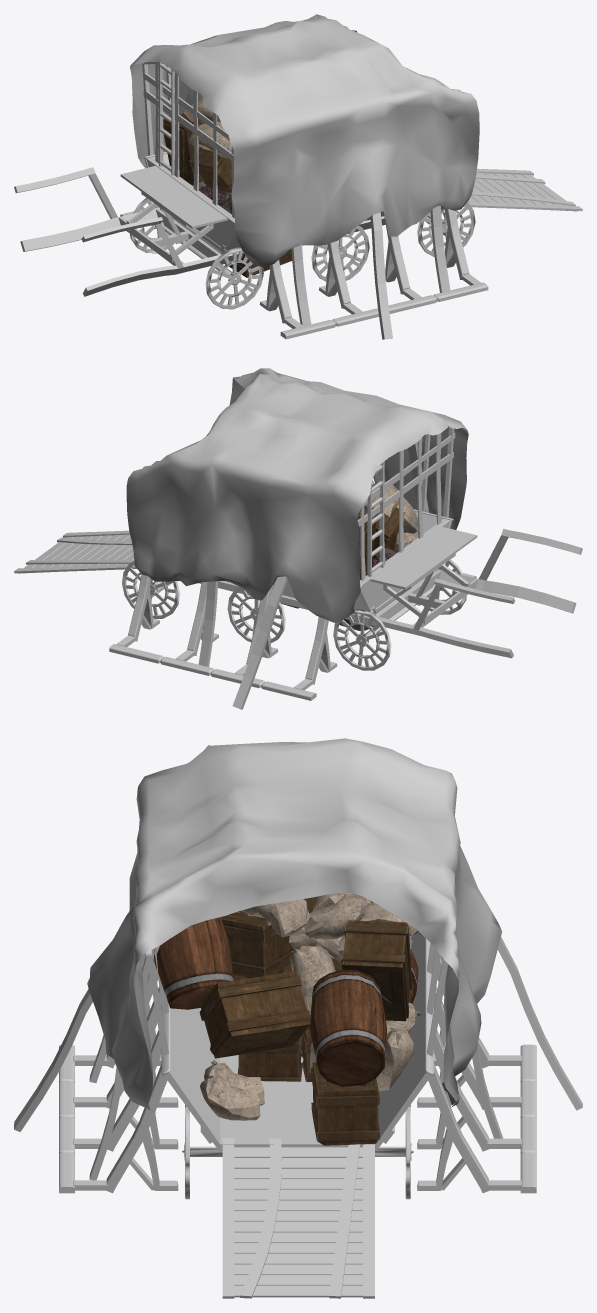
Rendered from storage.fbx.
3 views of the same model, one above another, from view 1: azimuth 30°, elevation 25°; view 2: azimuth 150°, elevation 25°; view 3: azimuth 270°, elevation 25° (orthographic). The views are drawn at different scales.
Visible parts, largest first — view 1: Plane, Cube.016, Circle, Cube.033, garbage, Cube.141, Cube.021, Cube.040, Cube.034, Cube.136, Cube.037, Plane.002 (+6 smaller); view 2: Plane, Cube.016, Circle, Cube.033, Cube.141, Cube.021, garbage, Cube.136, Cube.040, Cube.034, Cube.036, Plane.002 (+5 smaller); view 3: Plane, garbage, Cube.040, Cube.033, Cube.136, Cube.034, Cube.015, Cube.014, Cube.041, Cube.042, Cube.018, Cube.036 (+5 smaller).
Part boxes in pixels (x1,y1,x2,y2): Plane: (130,14,479,267); Cube.016: (14,167,444,296); Circle: (130,197,475,309); Cube.033: (152,207,480,328); garbage: (163,98,292,277); Cube.141: (143,64,234,218); Cube.021: (120,166,227,228); Cube.040: (468,172,577,211); Cube.034: (120,210,488,339); Cube.136: (144,153,442,264); Cube.037: (370,212,392,339); Plane.002: (158,62,175,175); Plane: (126,368,468,622); Cube.016: (201,529,582,658); Circle: (122,559,466,670); Cube.033: (116,573,442,690); Cube.141: (357,433,455,580); Cube.021: (370,527,477,589); garbage: (281,482,418,630); Cube.136: (198,511,451,625); Cube.040: (19,534,134,573); Cube.034: (109,571,476,700); Cube.036: (232,576,287,709); Plane.002: (367,461,384,576); Plane: (87,738,501,1112); garbage: (154,893,420,1145); Cube.040: (234,1147,362,1297); Cube.033: (73,956,521,1193); Cube.136: (164,932,431,1150); Cube.034: (59,1044,536,1193); Cube.015: (145,943,447,1056); Cube.014: (222,1138,234,1298); Cube.041: (240,1138,281,1298); Cube.042: (329,1144,360,1298); Cube.018: (363,1143,374,1298); Cube.036: (497,937,582,1110).
Size of the model in its own units: 6.9 by 2.98 by 4.65.
